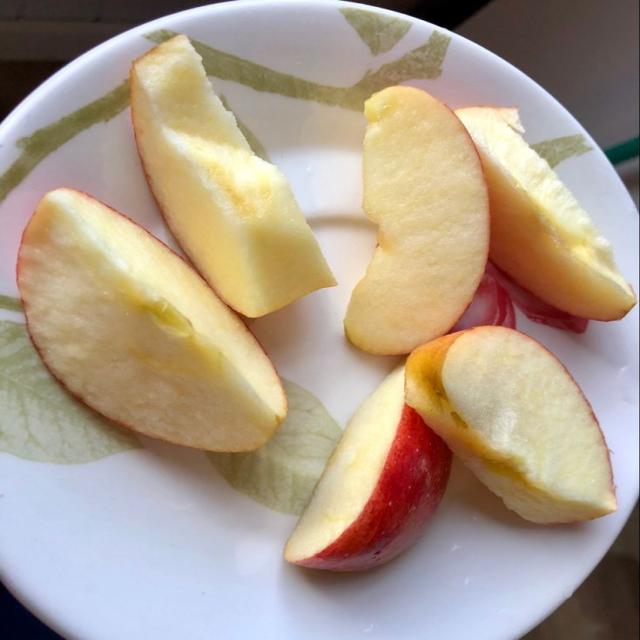apple: (18, 189, 286, 451), (131, 36, 336, 317), (406, 327, 616, 523), (345, 87, 489, 354), (456, 108, 635, 320), (285, 368, 451, 571)
